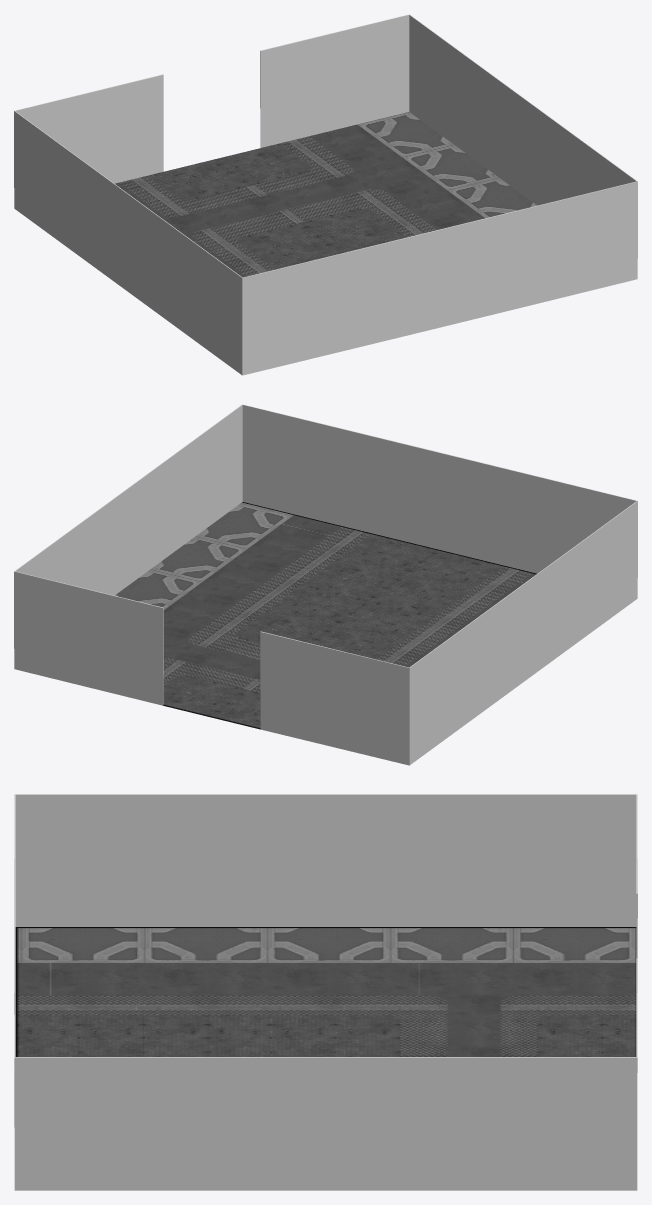
Rendered from room_generator.fbx.
3 renders of one model, top to bottom at view 1: azimuth 30°, elevation 25°; view 2: azimuth 150°, elevation 25°; view 3: azimuth 270°, elevation 25°, orthographic. The views are drawn at different scales.
Visible parts, largest first — view 1: Cube.001; view 2: Cube.001; view 3: Cube.001.
Boxes of the visible parts, x1=… form: Cube.001: x1=14, y1=14, x2=637, y2=375; Cube.001: x1=14, y1=404, x2=637, y2=765; Cube.001: x1=14, y1=794, x2=637, y2=1190.
Bounding box in the file's own units: 1535 × 363 × 1538.
